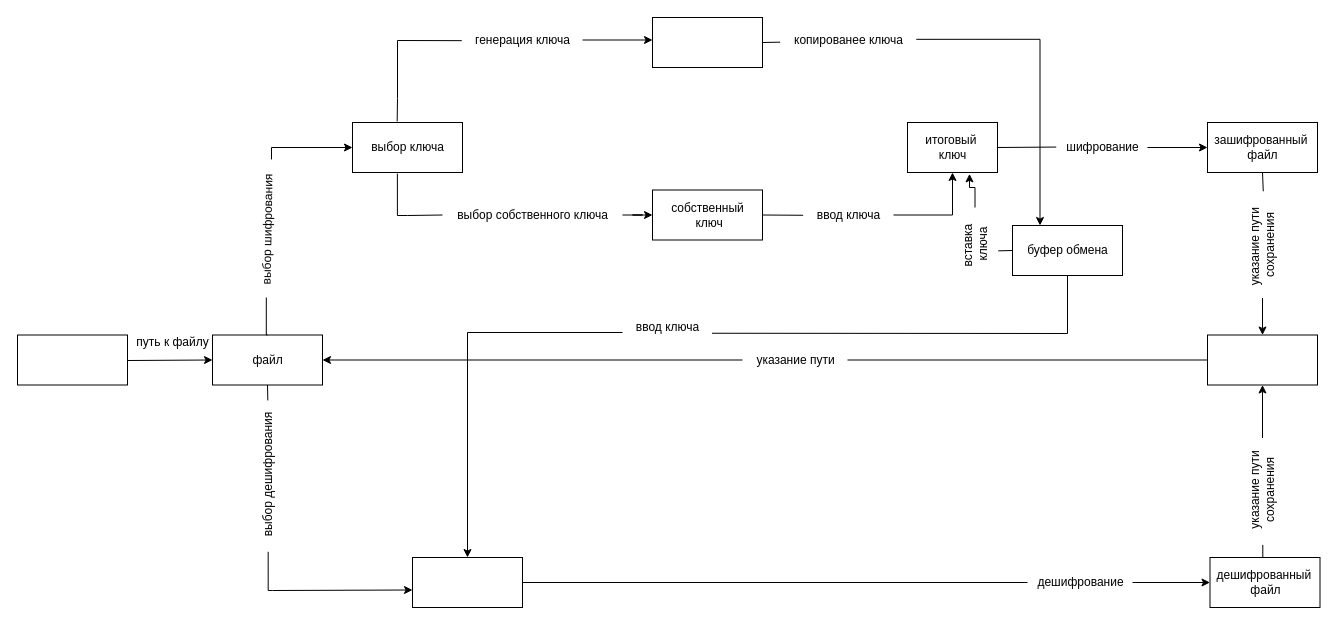
Some shapes in this 1338 by 625 pixel diagram are drawn without their labels. Each missing label, with the centre of its shape:
ключ: point (467, 582)
пользователь 1: point (72, 359)
сгенерированный ключ: point (707, 42)
сохраненный фаил: point (1262, 359)
